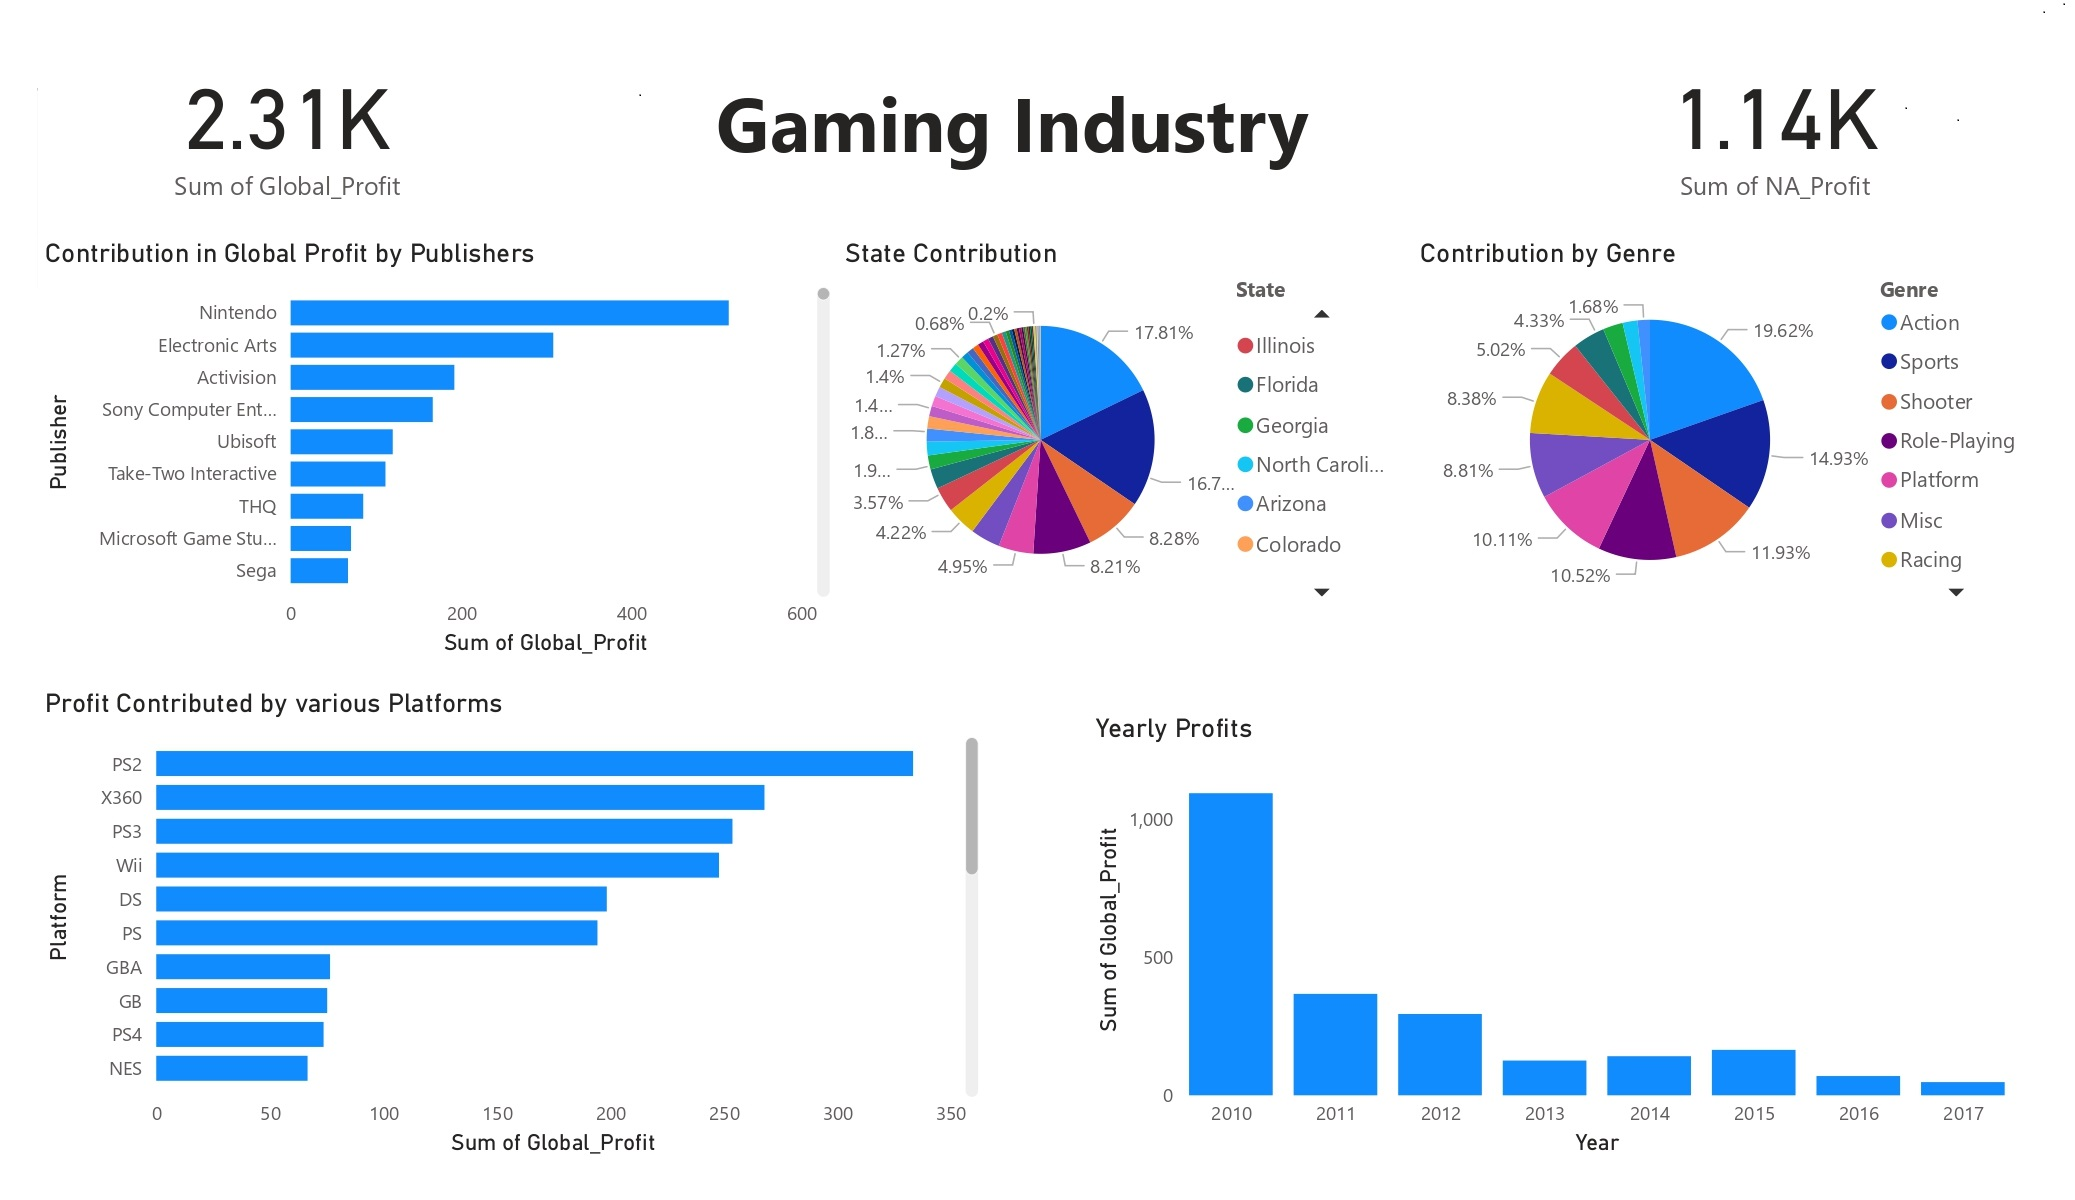

The dashboard page shown, as its layout file describes it:
{"tool":"powerbi","page":{"name":"Page 1","canvas":[1280,720],"ordinal":0},"visuals":[{"type":"textbox","box":[256,16,736,80],"z":0},{"type":"card","fields":{"Values":["Sum(GamesSale.Global_Profit)"]},"box":[32,0,256,112],"z":1000},{"type":"card","fields":{"Values":["Sum(GamesSale.NA_Profit)"]},"box":[992,0,240,112],"z":2000},{"type":"columnChart","title":"Yearly Profits","fields":{"Y":["Sum(GamesSale.Global_Profit)"],"Category":["GamesSale.Year"]},"box":[672,416,592,304],"z":3000},{"type":"pieChart","title":"State Contribution","fields":{"Y":["Sum(GamesSale.Global_Profit)"],"Category":["GamesSale.State"]},"box":[496,128,352,240],"z":4000},{"type":"barChart","title":"Profit Contributed by various Platforms","fields":{"Category":["GamesSale.Platform"],"Y":["Sum(GamesSale.Global_Profit)"]},"box":[16,432,560,256],"z":5000},{"type":"barChart","title":"Contribution in Global Profit by Publishers","fields":{"Category":["GamesSale.Publisher"],"Y":["Sum(GamesSale.Global_Profit)"]},"box":[0,144,480,224],"z":6000},{"type":"pieChart","title":"Contribution by Genre","fields":{"Category":["GamesSale.Genre"],"Y":["Sum(GamesSale.Global_Profit)"]},"box":[880,128,400,240],"z":7000}]}

Visuals, with their boxes on the page's 1280x720 design canvas (x1, y1, x2, y2). These are canvas units, not pixel positions in the 2075x1200 screenshot, which may show the page scaled, cropped or inside an application window:
textbox: left=256, top=16, right=992, bottom=96
card - Sum(GamesSale.Global_Profit): left=32, top=0, right=288, bottom=112
card - Sum(GamesSale.NA_Profit): left=992, top=0, right=1232, bottom=112
"Yearly Profits" columnChart: left=672, top=416, right=1264, bottom=720
"State Contribution" pieChart: left=496, top=128, right=848, bottom=368
"Profit Contributed by various Platforms" barChart: left=16, top=432, right=576, bottom=688
"Contribution in Global Profit by Publishers" barChart: left=0, top=144, right=480, bottom=368
"Contribution by Genre" pieChart: left=880, top=128, right=1280, bottom=368
